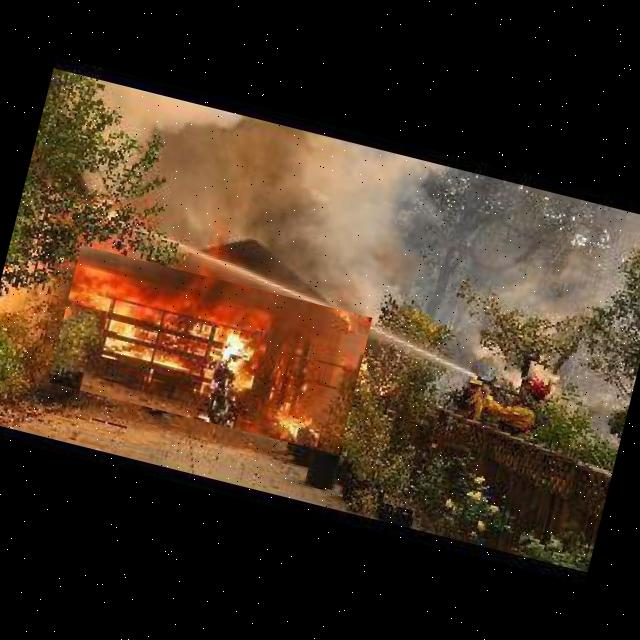fire: (47, 245, 372, 454)
